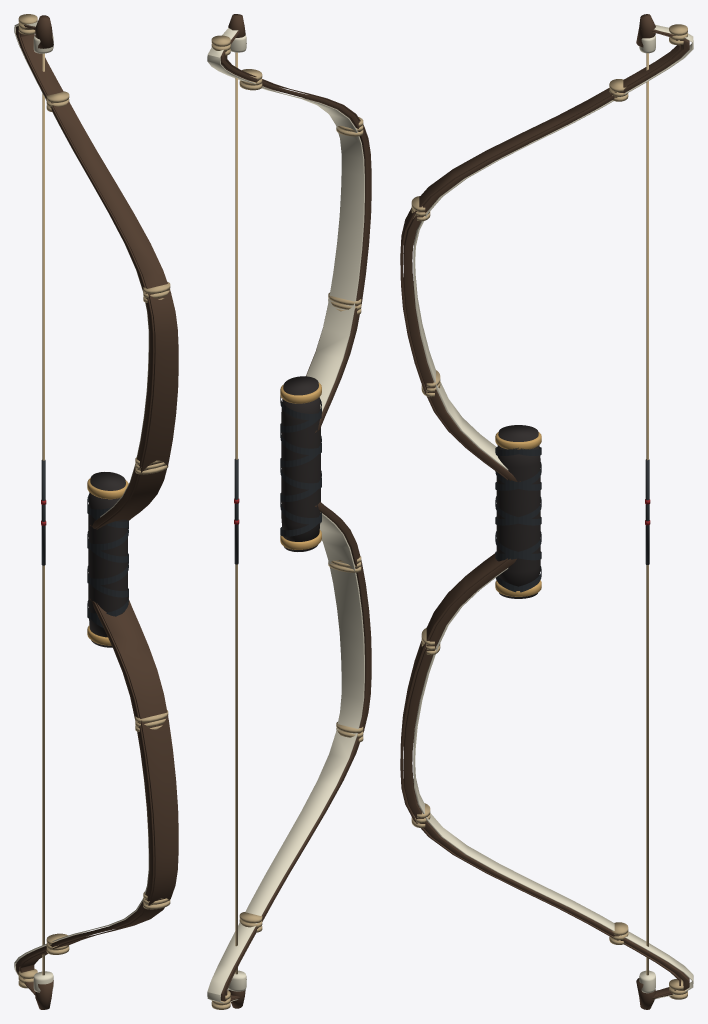
File: weapon_ming_shaogong_lod1.glb
The picture shows the model from 3 angles, left to right: view 1: azimuth 30°, elevation 25°; view 2: azimuth 150°, elevation 25°; view 3: azimuth 270°, elevation 25°; orthographic projection.
Visible parts, largest first — view 1: Authored_ming_shaogong.001; view 2: Authored_ming_shaogong.001; view 3: Authored_ming_shaogong.001.
Part boxes in pixels (x1,y1,x2,y2): Authored_ming_shaogong.001: [14, 14, 178, 1009]; Authored_ming_shaogong.001: [207, 14, 371, 1009]; Authored_ming_shaogong.001: [400, 14, 693, 1009].
Size of the model in its own units: 0.038 by 1.04 by 0.2792.
